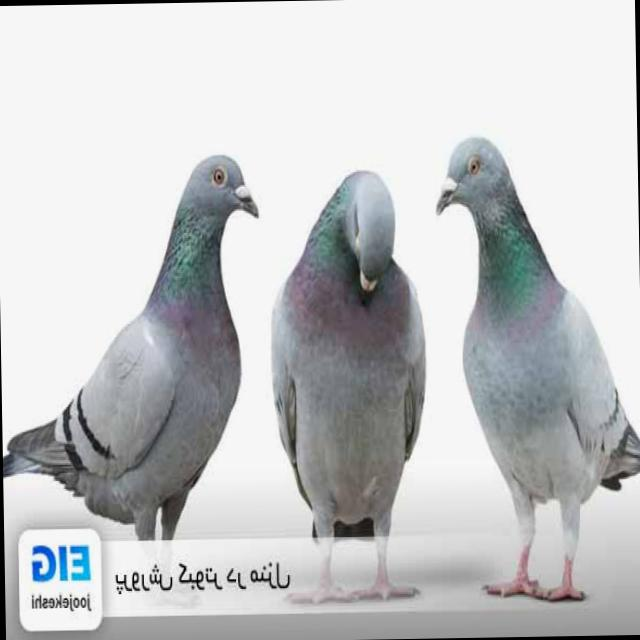bird: (0, 144, 271, 535), (435, 129, 640, 618), (266, 157, 440, 614)
